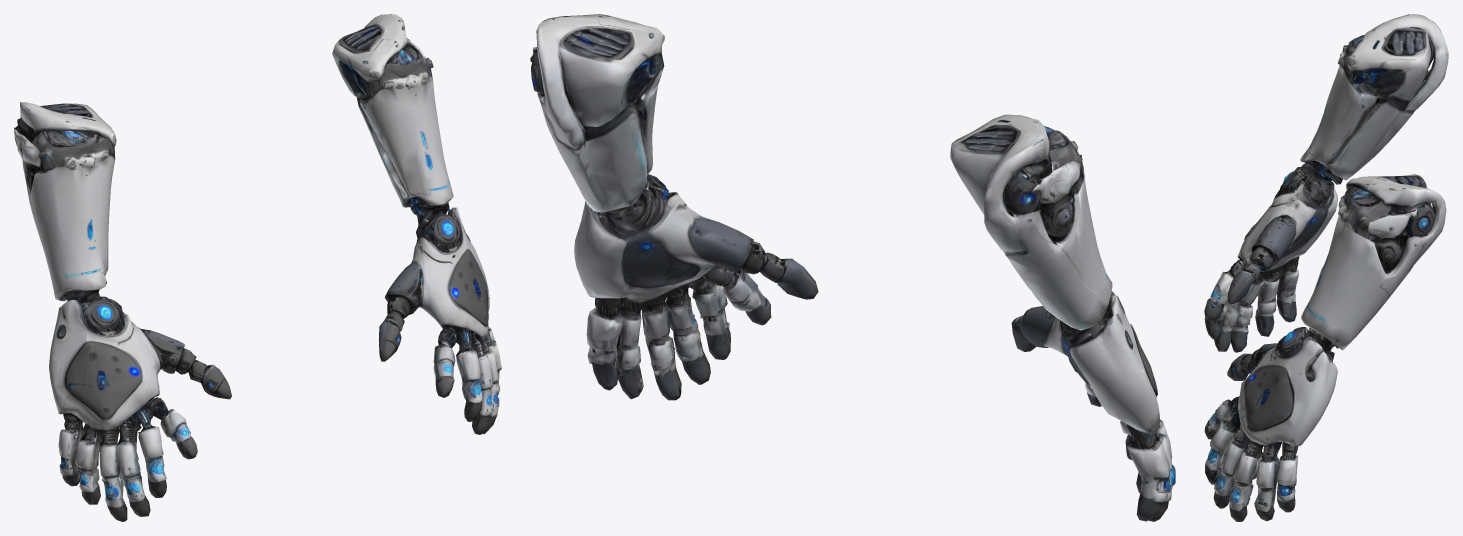
Rendered from Two_highly_detailed_h_0531100815_texture.glb.
3 renders of one model, left to right at view 1: azimuth 30°, elevation 25°; view 2: azimuth 150°, elevation 25°; view 3: azimuth 270°, elevation 25°, orthographic. The views are drawn at different scales.
Size of the model in its own units: 1.97 by 1.52 by 1.
Materials: 1 (1 with a texture image).
